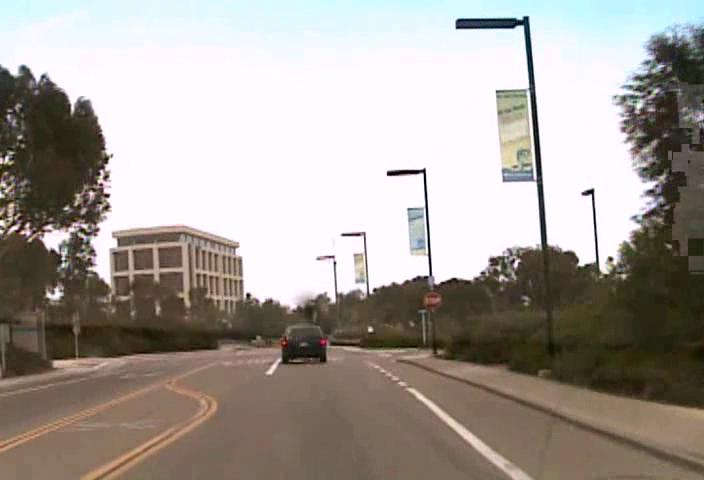stop: (422, 291, 442, 311)
